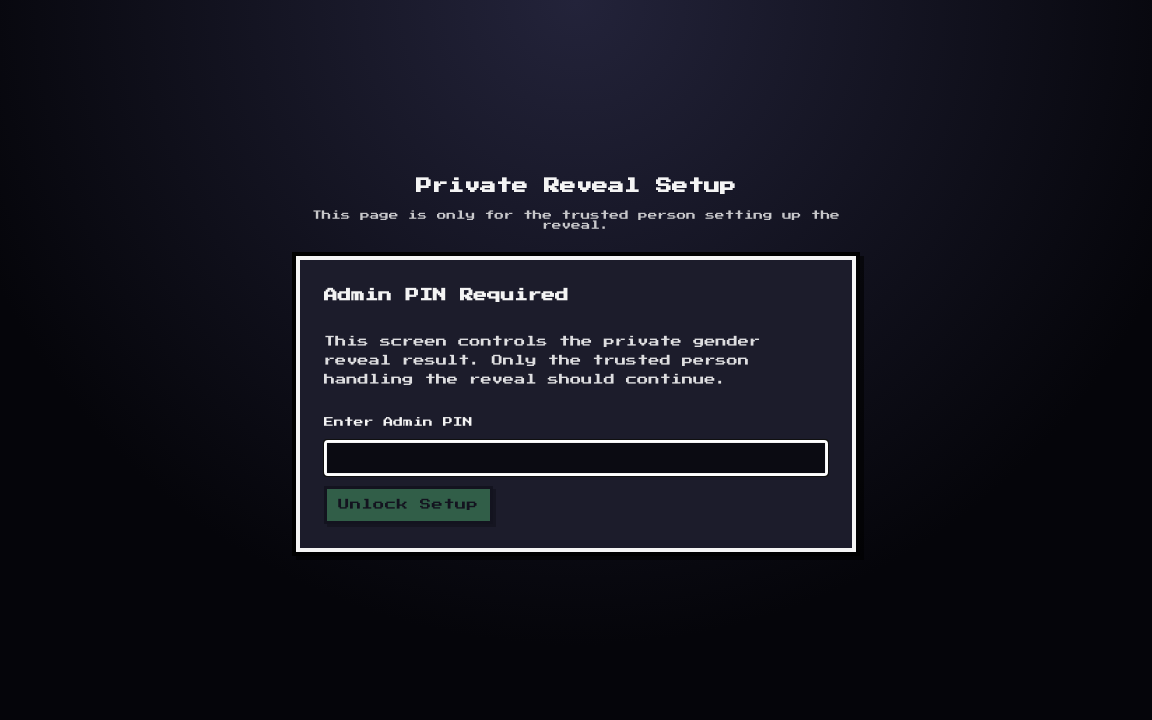
Test case: SetupRoute › a second device attempting to lock an already-locked reveal is rejected
Type "test-admin-pin" into the password field labelled "Enter Admin PIN".
click(576, 458); type("test-admin-pin")  # box [324,440,828,476]
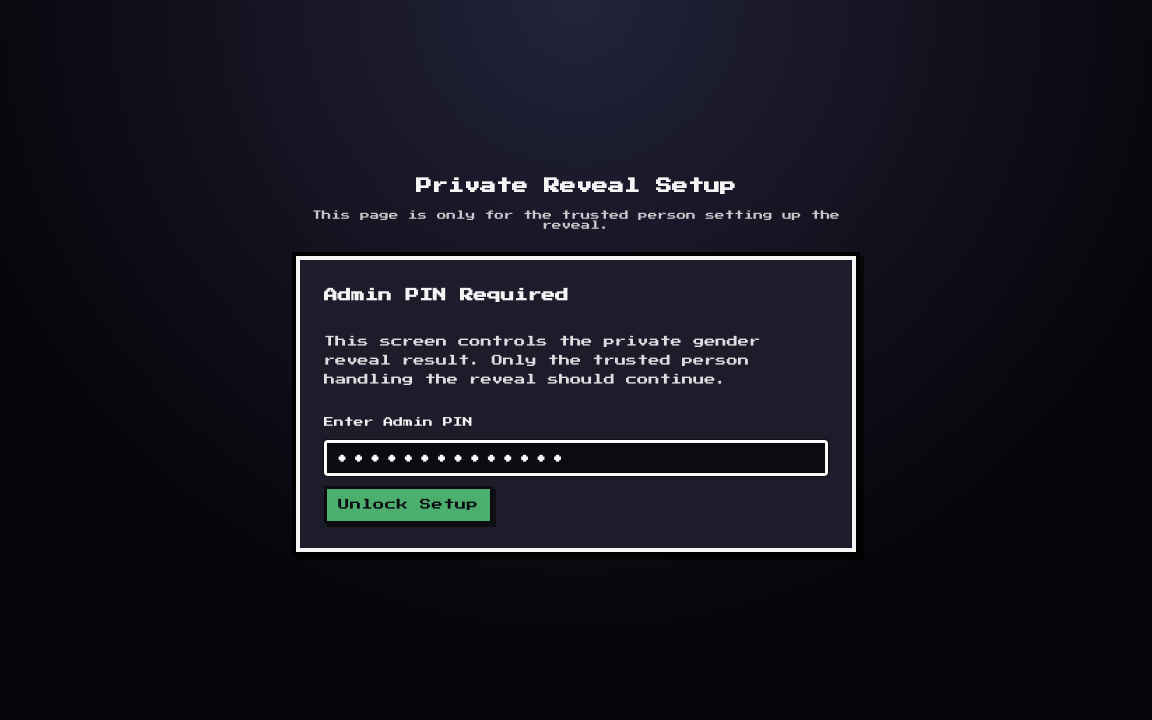
Click the button "Unlock Setup".
click(408, 505)  # box [324,486,493,524]
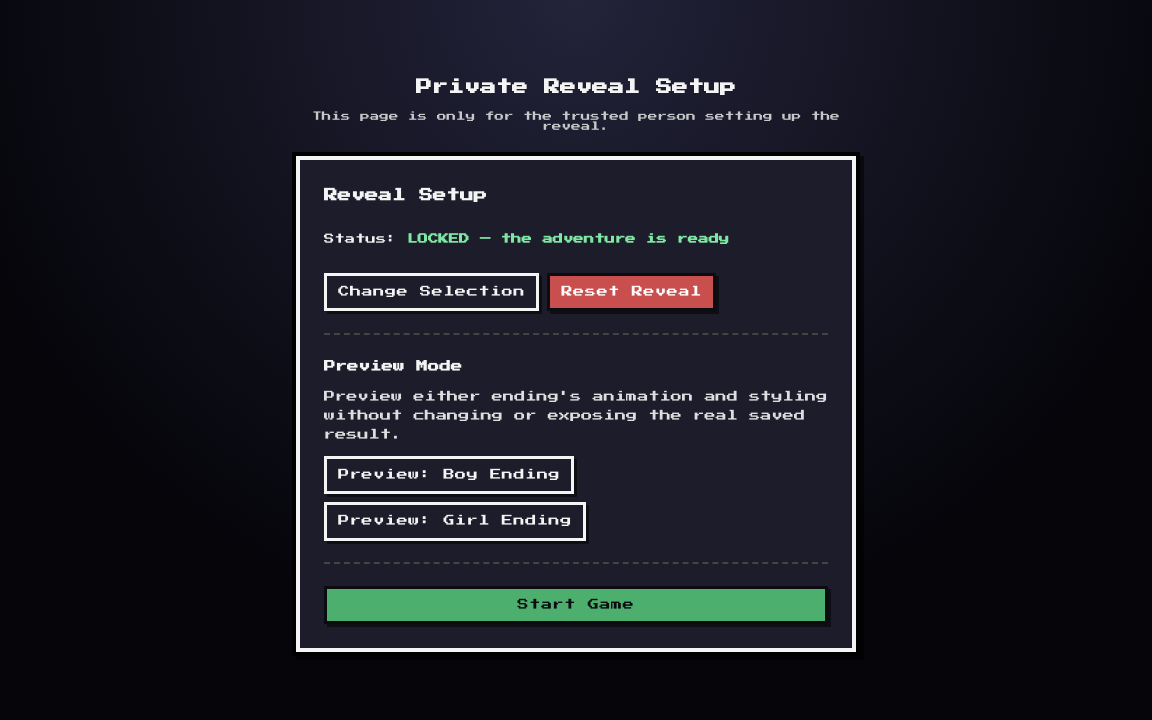
Expected: the text "LOCKED — the adventure is ready" is shown, [407,234,729,244]
